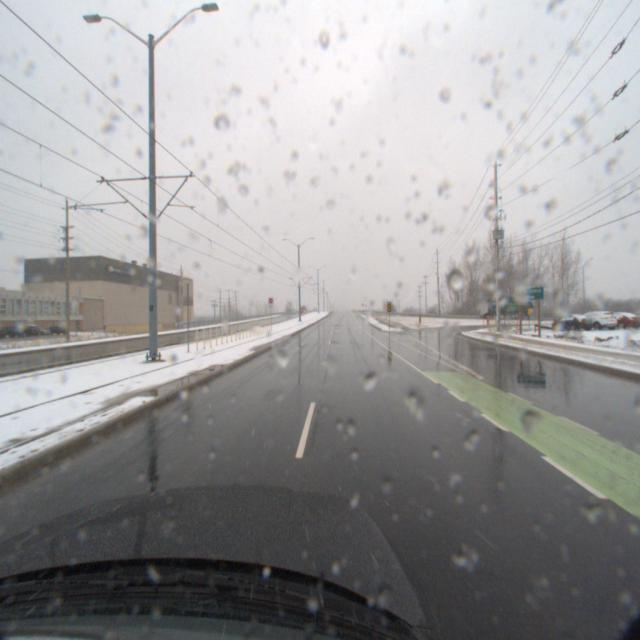Car: (563, 312, 615, 332)
Truck: (475, 294, 531, 318)
